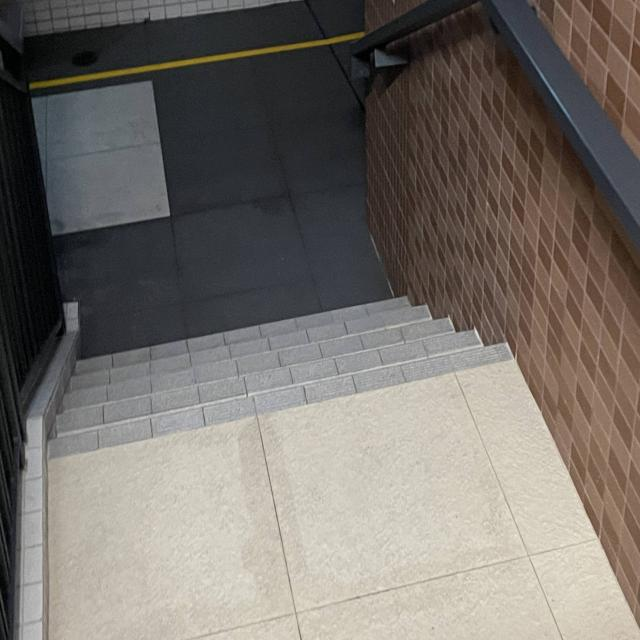Stairs: (33, 272, 527, 463)
